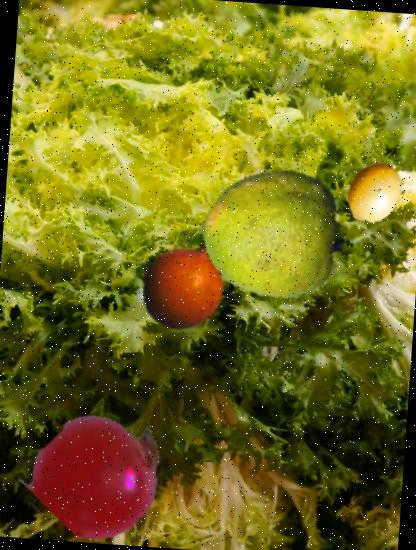Granadilla: (124, 210, 250, 336)
Lemon: (340, 158, 410, 227)
Limes: (196, 156, 349, 308)
Redcurrant: (34, 404, 170, 540)
